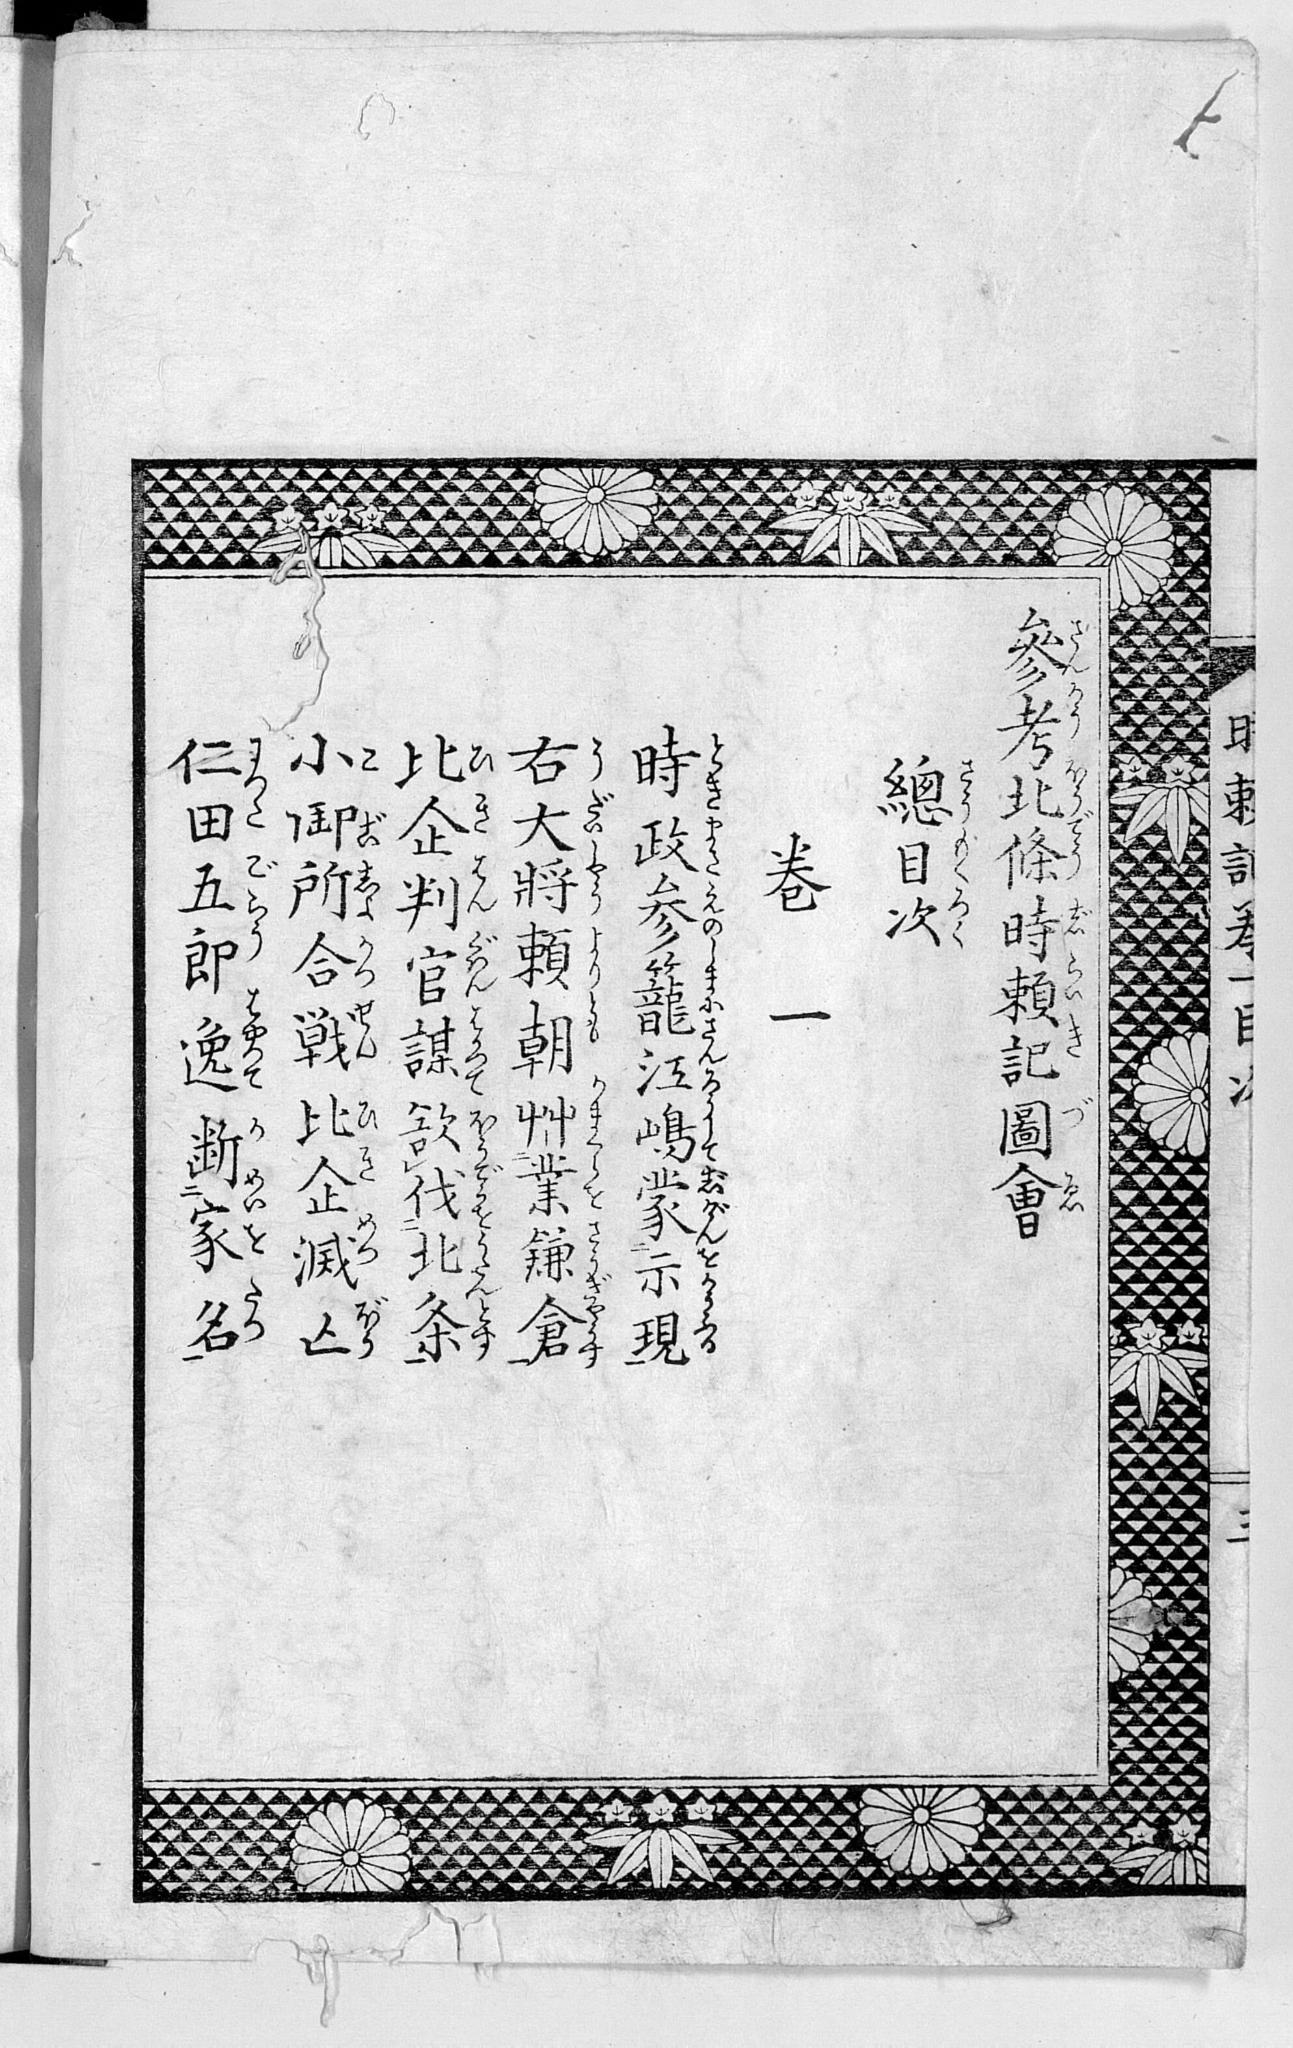MainZone-Character: (173, 990, 277, 1093), (629, 713, 731, 812), (176, 1108, 274, 1208), (630, 955, 733, 1041), (989, 810, 1096, 891), (396, 1007, 496, 1092), (508, 990, 609, 1074), (502, 1074, 615, 1148), (988, 1162, 1099, 1236), (630, 1166, 734, 1244), (870, 757, 980, 828), (177, 846, 279, 923), (402, 926, 501, 1005), (395, 853, 501, 926), (180, 1271, 273, 1354), (623, 1306, 737, 1373), (515, 1288, 609, 1370), (508, 1148, 615, 1218), (402, 1293, 501, 1369), (396, 785, 501, 856), (1004, 605, 1095, 685), (393, 1095, 498, 1165), (290, 1291, 390, 1364), (991, 1089, 1095, 1157), (635, 876, 728, 952), (173, 923, 279, 990), (164, 1202, 270, 1269), (511, 1220, 615, 1287), (285, 855, 384, 925), (292, 1214, 387, 1287), (287, 996, 381, 1069), (1001, 688, 1093, 761), (170, 727, 271, 792), (989, 1020, 1095, 1083), (402, 1227, 501, 1294), (879, 891, 982, 955), (508, 852, 608, 918), (511, 791, 617, 852), (514, 920, 606, 989), (626, 1247, 734, 1305), (997, 894, 1095, 958), (292, 1144, 381, 1214), (992, 956, 1092, 1019), (285, 794, 392, 852), (632, 813, 727, 877), (396, 728, 498, 788), (285, 728, 381, 789), (287, 931, 389, 989), (633, 1041, 730, 1101), (398, 1171, 501, 1226), (888, 828, 977, 889), (509, 734, 611, 788), (290, 1087, 383, 1144), (633, 1107, 724, 1163), (1001, 766, 1093, 821), (174, 798, 264, 840)
MainZone-Ruby: (235, 990, 268, 1092), (238, 850, 277, 923), (694, 1166, 730, 1241), (240, 1120, 268, 1212), (460, 928, 498, 993), (468, 1229, 502, 1299), (235, 1272, 267, 1348), (352, 1293, 386, 1358), (1061, 615, 1093, 682), (699, 956, 725, 1038), (471, 1165, 506, 1226), (699, 730, 727, 806), (1064, 809, 1093, 880), (575, 1293, 605, 1364), (582, 1221, 614, 1287), (465, 1010, 490, 1090), (465, 856, 496, 918), (693, 1041, 725, 1099), (465, 1104, 496, 1162), (238, 733, 270, 791), (582, 1077, 609, 1144), (350, 996, 377, 1060), (581, 1148, 608, 1211), (699, 885, 724, 950), (353, 858, 378, 923), (946, 891, 974, 949), (690, 1309, 722, 1357), (468, 1302, 495, 1360), (579, 792, 615, 836), (691, 1250, 722, 1299), (1059, 1168, 1089, 1218), (956, 760, 979, 824), (355, 1215, 381, 1268), (356, 804, 387, 849), (578, 990, 602, 1049), (579, 926, 603, 985), (240, 1218, 270, 1263), (353, 934, 378, 986), (1064, 900, 1093, 941), (581, 736, 608, 782), (699, 1105, 719, 1163), (1064, 953, 1087, 1004), (581, 856, 603, 910), (1064, 688, 1087, 737), (702, 818, 721, 874), (1062, 1093, 1095, 1126), (469, 792, 493, 837), (1064, 1019, 1089, 1059), (355, 1096, 380, 1136), (952, 833, 971, 885), (1065, 769, 1086, 816), (352, 1144, 375, 1186), (358, 736, 381, 775), (241, 925, 267, 961), (466, 742, 492, 773), (246, 800, 264, 833)
